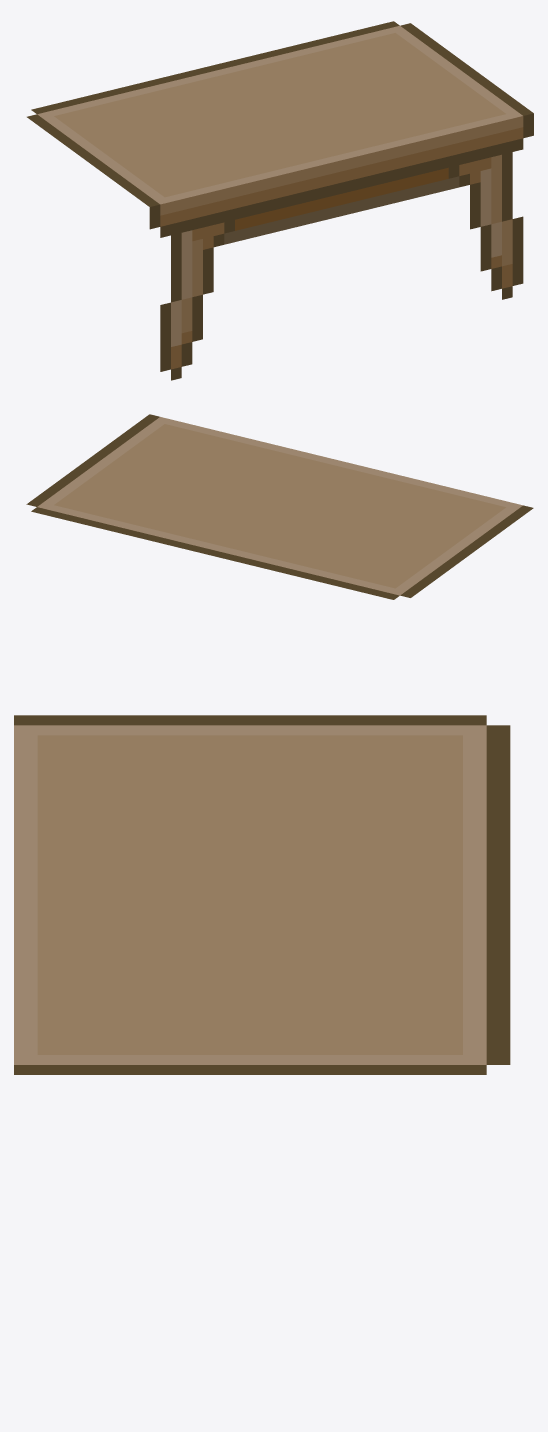
The model's file is table_short.gltf.
3 renders of one model, top to bottom at view 1: azimuth 30°, elevation 25°; view 2: azimuth 150°, elevation 25°; view 3: azimuth 270°, elevation 25°, orthographic. The views are drawn at different scales.
Visible parts, largest first — view 1: table_short-col; view 2: table_short-col; view 3: table_short-col.
Part boxes in pixels (box(x1,y1,x2,y2)): table_short-col: box(27, 21, 533, 380); table_short-col: box(26, 414, 533, 599); table_short-col: box(14, 715, 510, 1074).
Bounding box in the file's own units: 2.25 × 1 × 1.38.
1 material, 1 textured.
